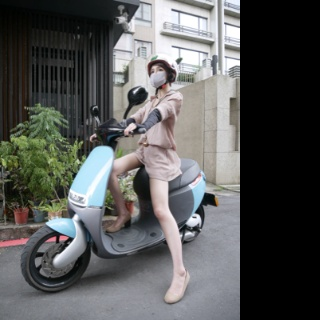with_mask: (149, 66, 169, 87)
